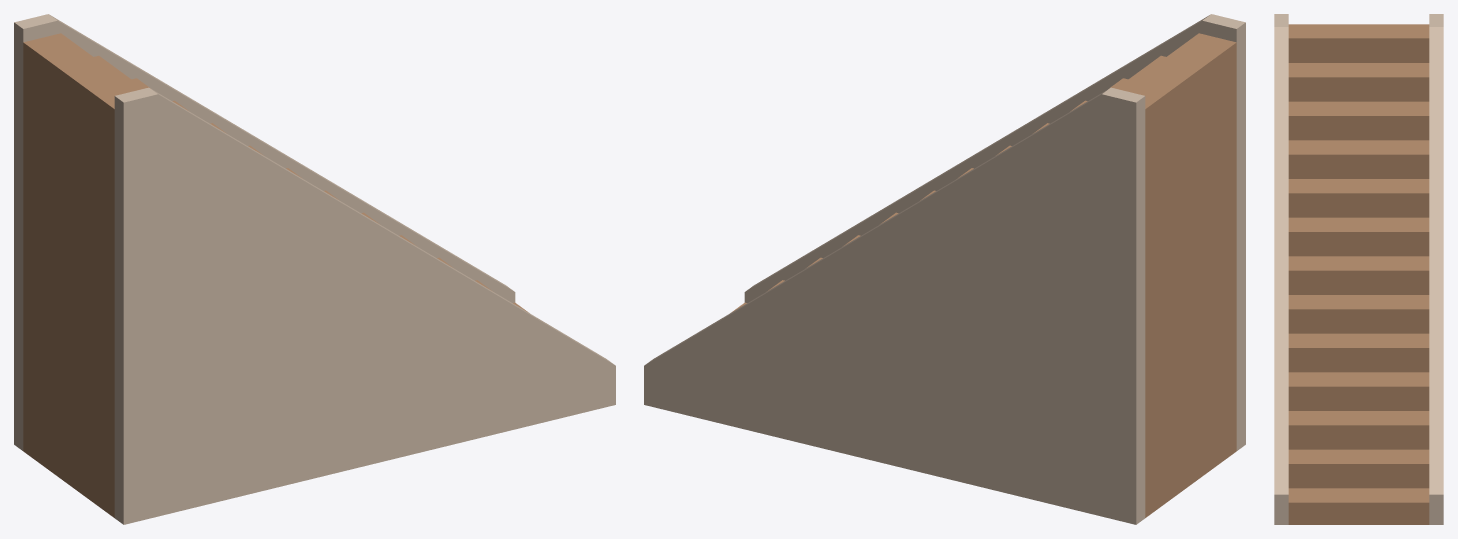
The model's file is Stairs_03_dra.glb.
The picture shows the model from 3 angles, left to right: view 1: azimuth 30°, elevation 25°; view 2: azimuth 150°, elevation 25°; view 3: azimuth 270°, elevation 25°; orthographic projection. The views are drawn at different scales.
Visible parts, largest first — view 1: Stairs_03; view 2: Stairs_03; view 3: Stairs_03.
Boxes of the visible parts, left/top/right/bottom form: Stairs_03: left=14, top=14, right=615, bottom=524; Stairs_03: left=644, top=14, right=1245, bottom=524; Stairs_03: left=1274, top=14, right=1443, bottom=524.
Size of the model in its own units: 3.15 by 2.58 by 1.21.
Materials: 1 (1 with a texture image).
